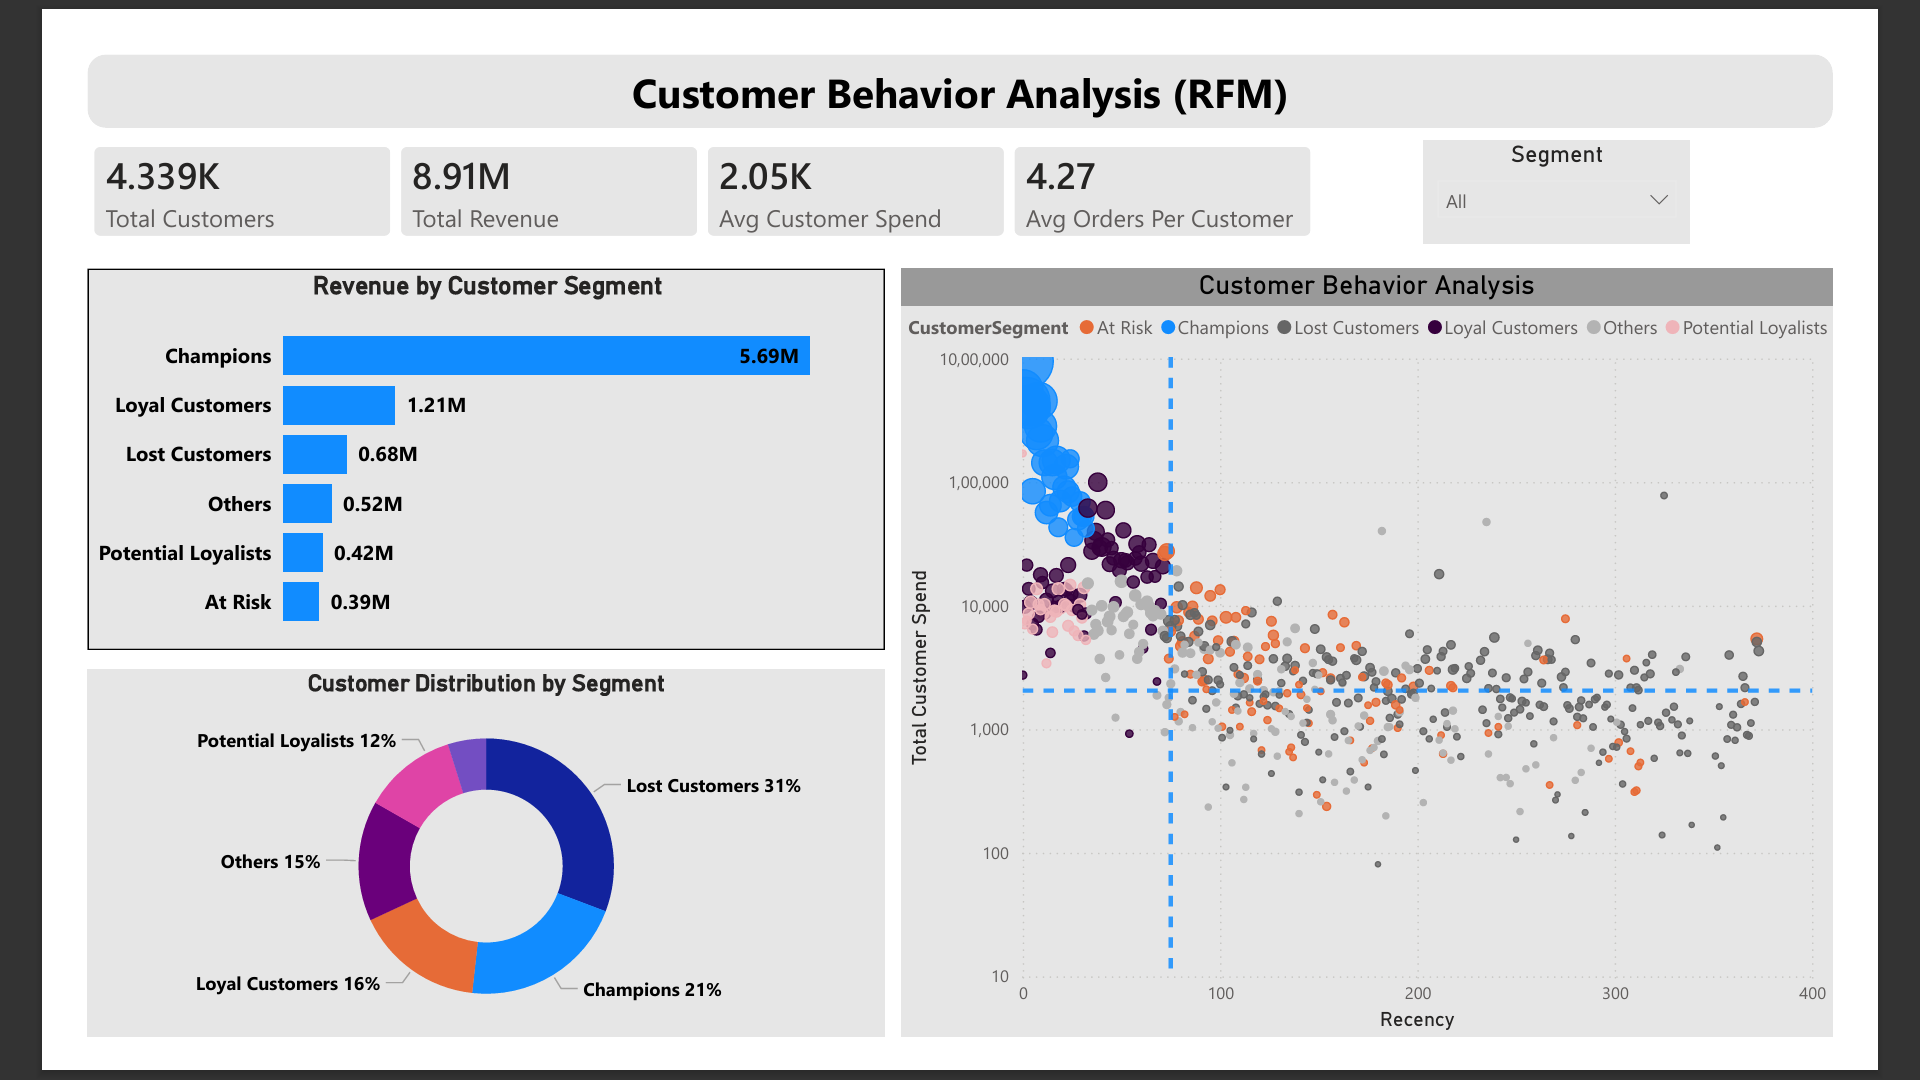

This screenshot's page, from the dashboard's own definition file:
{"tool":"powerbi","page":{"name":"Page 1","canvas":[1280,720],"ordinal":0},"visuals":[{"type":"donutChart","title":"Customer Distribution by Segment","fields":{"Category":["CustomerSummary.CustomerSegment"],"Y":["CountNonNull(CustomerSummary.RFM_Score)"]},"box":[8.6,453.7,577.2,266.6],"z":0},{"type":"cardVisual","fields":{"Data":["CountNonNull(CustomerSummary.CustomerID)","Sum(CustomerSummary.Monetary)","Avg(CustomerSummary.Monetary)","Avg(CustomerSummary.Frequency)"]},"box":[8.6,70.9,891.4,74.6],"z":1000},{"type":"barChart","title":"Revenue by Customer Segment","fields":{"Category":["CustomerSummary.CustomerSegment"],"Y":["Sum(CustomerSummary.Monetary)"]},"box":[8.6,163.9,577.2,276.4],"z":2000},{"type":"scatterChart","title":"Customer Behavior Analysis","fields":{"X":["CustomerSummary.Recency"],"Y":["Sum(CustomerSummary.Monetary)"],"Series":["CustomerSummary.CustomerSegment"],"Size":["Sum(CustomerSummary.Frequency)"]},"box":[598,163.9,673.8,556.4],"z":3000},{"type":"slicer","title":"Segment","fields":{"Values":["CustomerSummary.CustomerSegment"]},"box":[975.8,70.9,193.2,74.6],"z":4000},{"type":"shape","box":[8.6,8.6,1263.2,53.8],"z":5000}]}

Visuals, with their boxes in screenshot pixels (x1, y1, x2, y2), scaled from the page's 1280x720 canvas onto the 1920x1080 screenshot:
"Customer Distribution by Segment" donutChart: 13,681,879,1079
cardVisual - CountNonNull(CustomerSummary.CustomerID) x Sum(CustomerSummary.Monetary): 13,106,1350,218
"Revenue by Customer Segment" barChart: 13,246,879,660
"Customer Behavior Analysis" scatterChart: 897,246,1908,1079
"Segment" slicer: 1464,106,1754,218
shape: 13,13,1908,94
